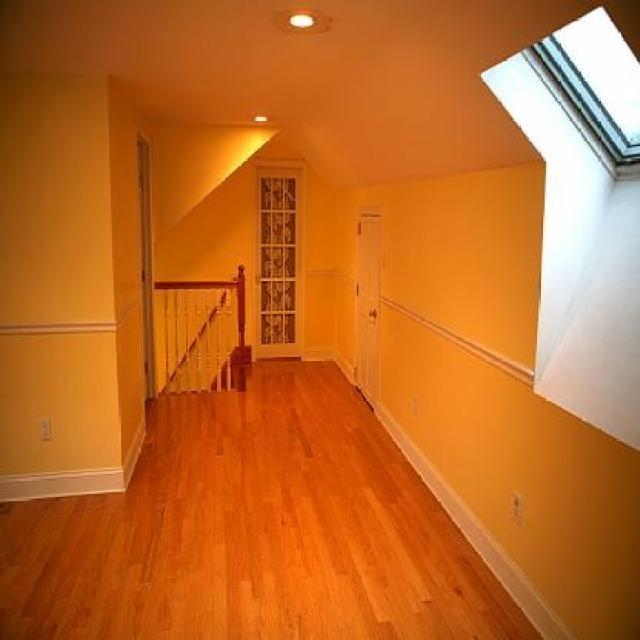stair: (156, 263, 247, 392)
